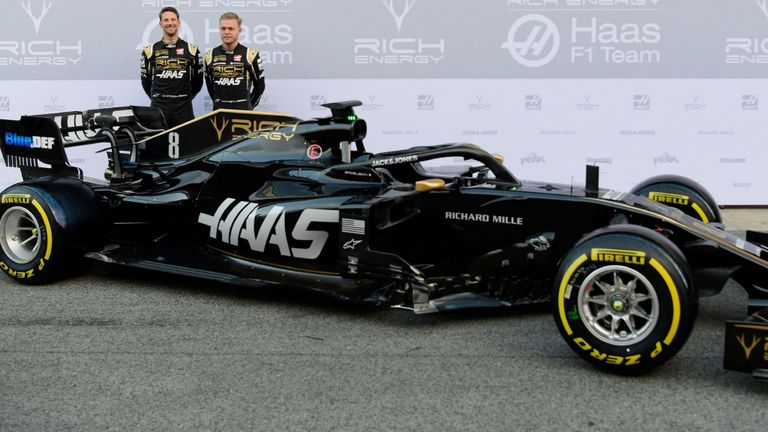f1_car: (1, 95, 768, 389)
